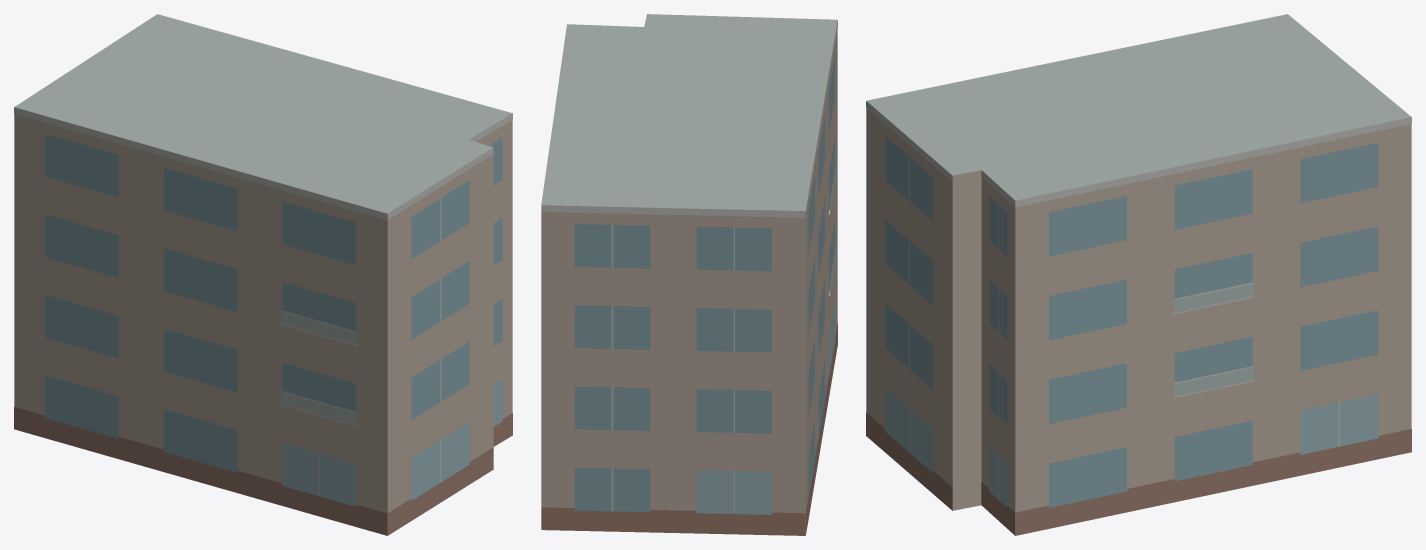
Rendered from survey-upis-32627437.glb.
The picture shows the model from 3 angles, left to right: view 1: azimuth 30°, elevation 25°; view 2: azimuth 150°, elevation 25°; view 3: azimuth 270°, elevation 25°; orthographic projection. The views are drawn at different scales.
Parts seen in each view (by area): view 1: survey-upis-32627437.tmp; view 2: survey-upis-32627437.tmp; view 3: survey-upis-32627437.tmp.
Boxes of the visible parts, bbox=[...] form: survey-upis-32627437.tmp: bbox=[14, 14, 512, 535]; survey-upis-32627437.tmp: bbox=[541, 14, 837, 535]; survey-upis-32627437.tmp: bbox=[866, 14, 1411, 535].
Size of the model in its own units: 14.34 by 12 by 17.71.
